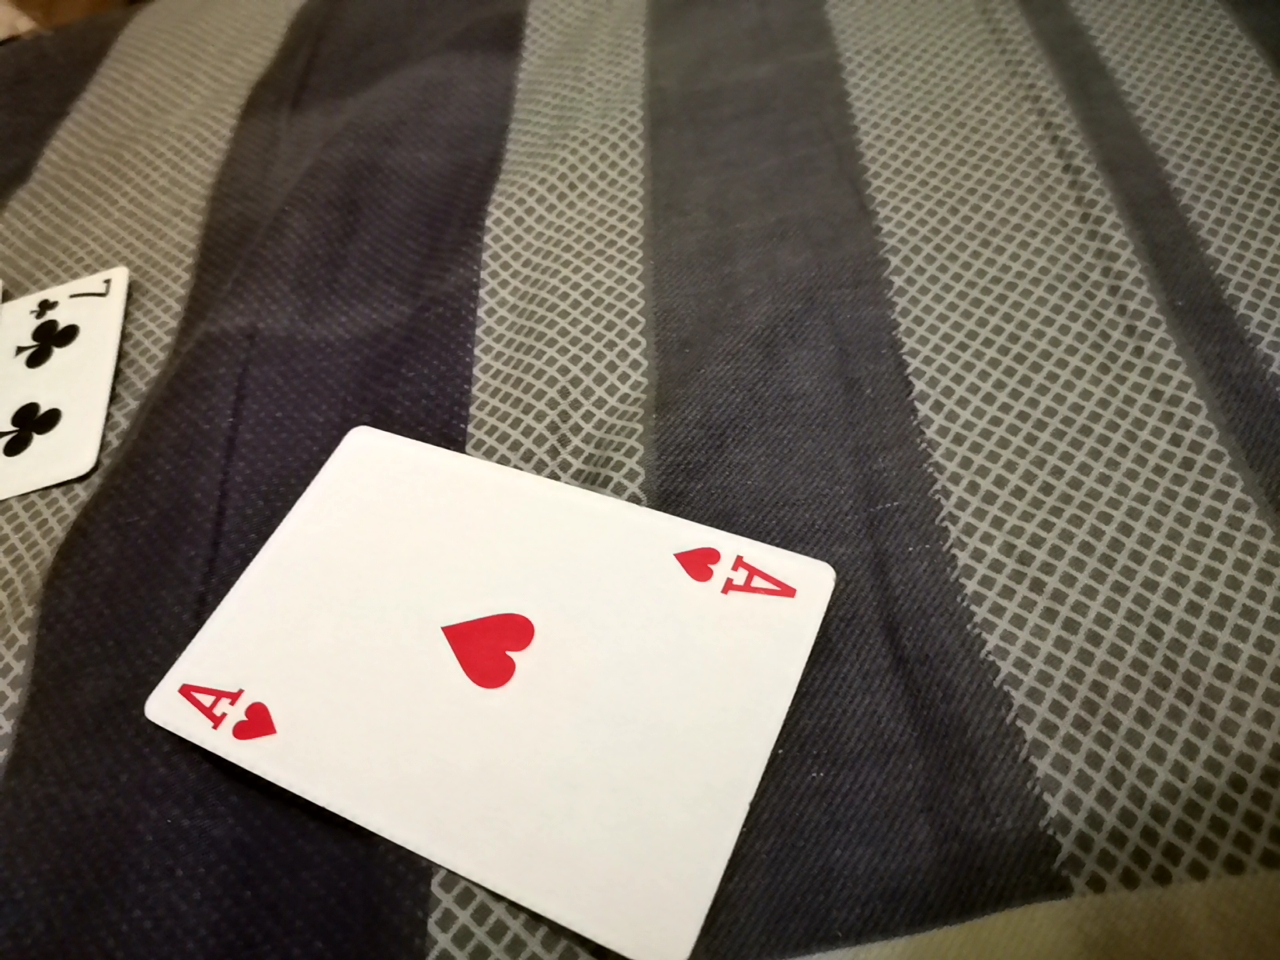hx a: (125, 418, 844, 946)
